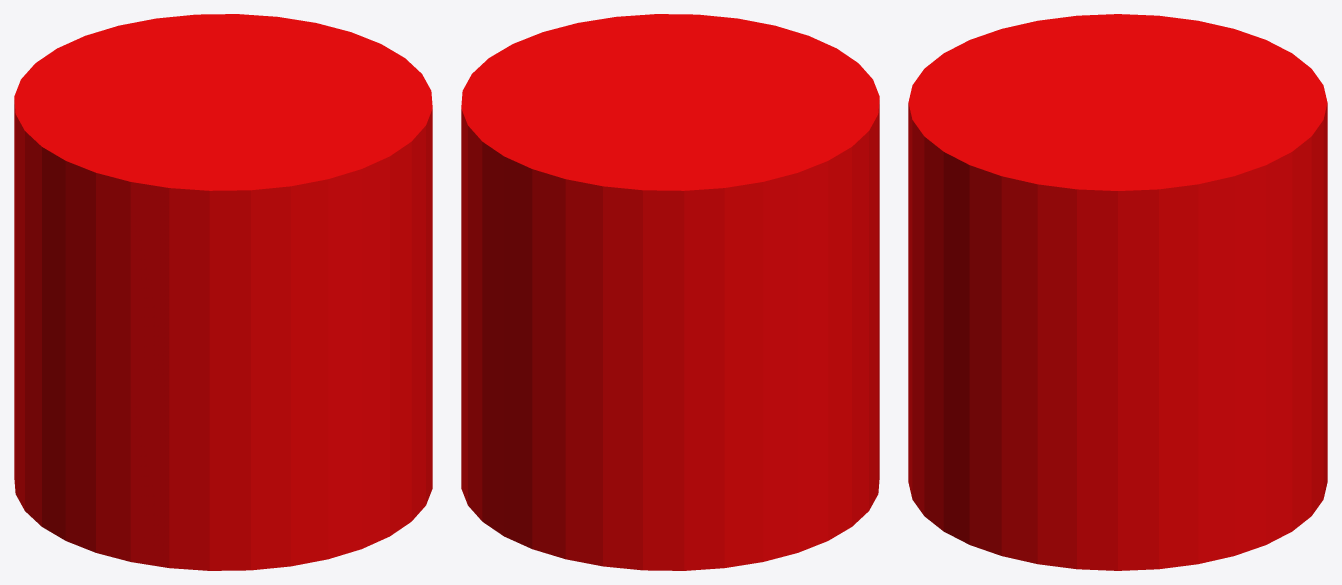
3 views of the same model, side by side, from view 1: azimuth 30°, elevation 25°; view 2: azimuth 150°, elevation 25°; view 3: azimuth 270°, elevation 25° (orthographic).
Parts seen in each view (by area): view 1: Cylinder; view 2: Cylinder; view 3: Cylinder.
Boxes of the visible parts, x1=… form: Cylinder: x1=14, y1=14, x2=432, y2=570; Cylinder: x1=461, y1=14, x2=879, y2=570; Cylinder: x1=908, y1=14, x2=1327, y2=570.
Bounding box in the file's own units: 2 × 2 × 2.
